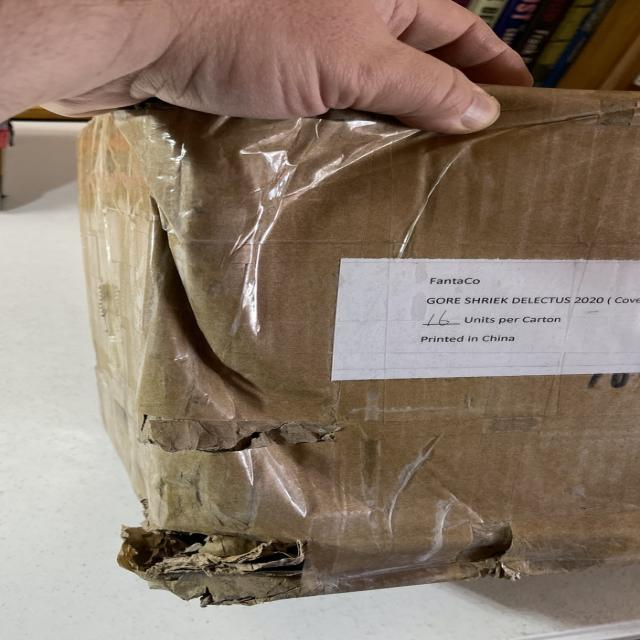hole: (136, 512, 308, 596)
